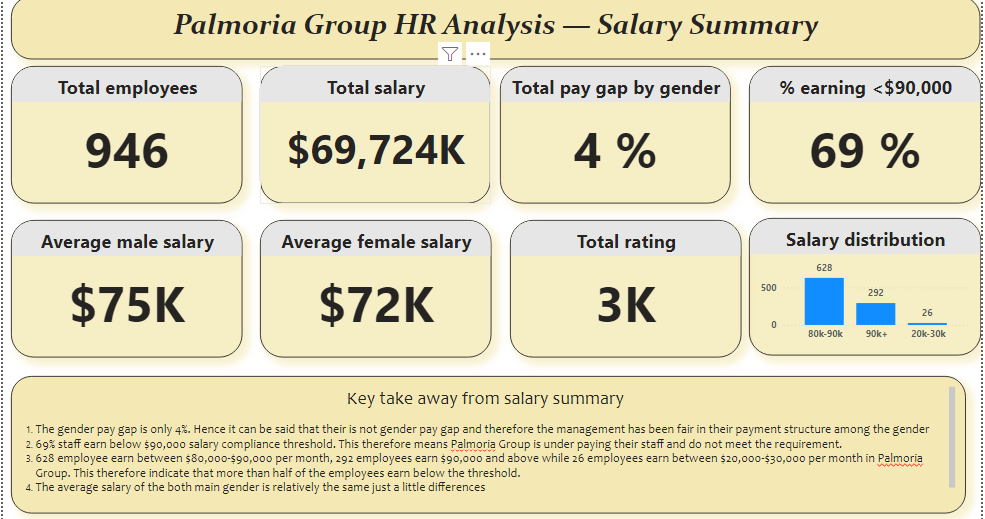

The dashboard page shown, as its layout file describes it:
{"tool":"powerbi","page":{"name":"Summary Page","canvas":[1280,720],"ordinal":5},"visuals":[{"type":"textbox","box":[10.6,0,1269.4,82.8],"z":0},{"type":"card","title":"Total employees","fields":{"Values":["Palmoria Group emp-data (1).Name"]},"box":[10.1,92.2,303,180],"z":1000},{"type":"card","title":"Total  pay gap by gender","fields":{"Values":["Palmoria Group emp-data (1).Gender Pay Gap (%)"]},"box":[650.9,92.2,302.4,180],"z":2000},{"type":"card","title":"Total salary","fields":{"Values":["Palmoria Group emp-data (1).Salary"]},"box":[337,92.2,302.4,180],"z":3000},{"type":"card","title":"% earning <$90,000","fields":{"Values":["Palmoria Group emp-data (1).% Earning below 90K"]},"box":[976.3,92.2,303.8,180],"z":4000},{"type":"card","title":"Average male salary","fields":{"Values":["Palmoria Group emp-data (1).Male Average Salary"]},"box":[10.1,293.8,303,180],"z":5000},{"type":"card","title":"Average female salary","fields":{"Values":["Palmoria Group emp-data (1).Female Avg Salary"]},"box":[337,293.8,303,180],"z":6000},{"type":"card","title":"Total rating","fields":{"Values":["Palmoria Group emp-data (1).Rating Numeric"]},"box":[663.8,293.8,303,180],"z":7000},{"type":"textbox","box":[10.1,496.8,1249.9,180],"z":8000},{"type":"columnChart","title":"Salary distribution","fields":{"Y":["Palmoria Group emp-data (1).Name"],"Category":["Palmoria Group emp-data (1).Salary Band"]},"box":[976.3,290.9,303.8,180],"z":9000}]}

Visuals, with their boxes on the page's 1280x720 design canvas (x1, y1, x2, y2). These are canvas units, not pixel positions in the 985x519 screenshot, which may show the page scaled, cropped or inside an application window:
textbox: Rect(11, 0, 1280, 83)
"Total employees" card: Rect(10, 92, 313, 272)
"Total  pay gap by gender" card: Rect(651, 92, 953, 272)
"Total salary" card: Rect(337, 92, 639, 272)
"% earning <$90,000" card: Rect(976, 92, 1280, 272)
"Average male salary" card: Rect(10, 294, 313, 474)
"Average female salary" card: Rect(337, 294, 640, 474)
"Total rating" card: Rect(664, 294, 967, 474)
textbox: Rect(10, 497, 1260, 677)
"Salary distribution" columnChart: Rect(976, 291, 1280, 471)
